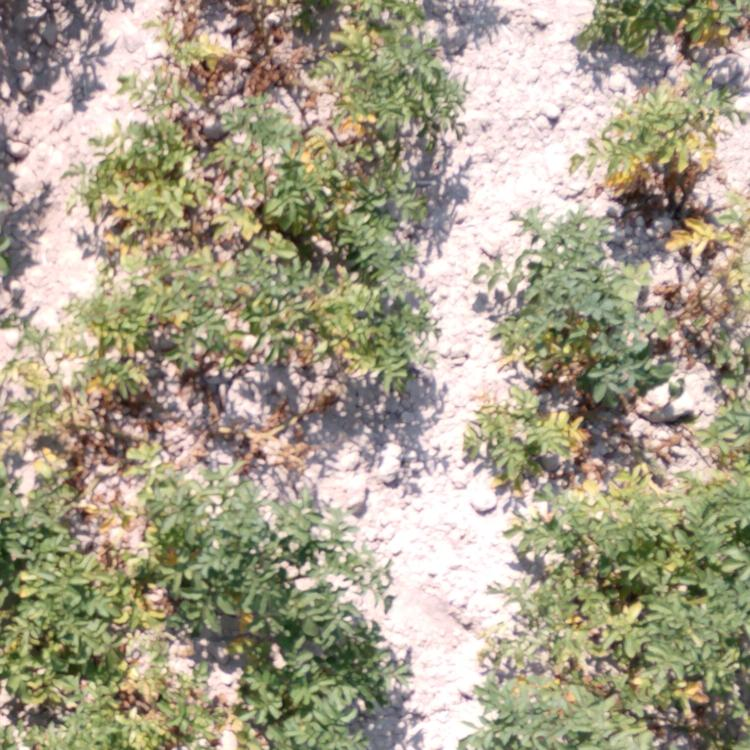healthy: (249, 562, 390, 750), (493, 224, 638, 332), (171, 482, 354, 558), (599, 339, 663, 391)
stressed: (1, 563, 249, 750), (97, 131, 446, 261), (125, 272, 433, 412), (459, 604, 750, 750), (1, 320, 116, 553), (532, 485, 750, 604), (308, 1, 458, 131), (457, 340, 597, 470), (598, 78, 731, 207), (153, 1, 279, 128), (575, 2, 750, 62), (668, 224, 750, 351), (128, 417, 168, 562), (692, 388, 750, 479)
